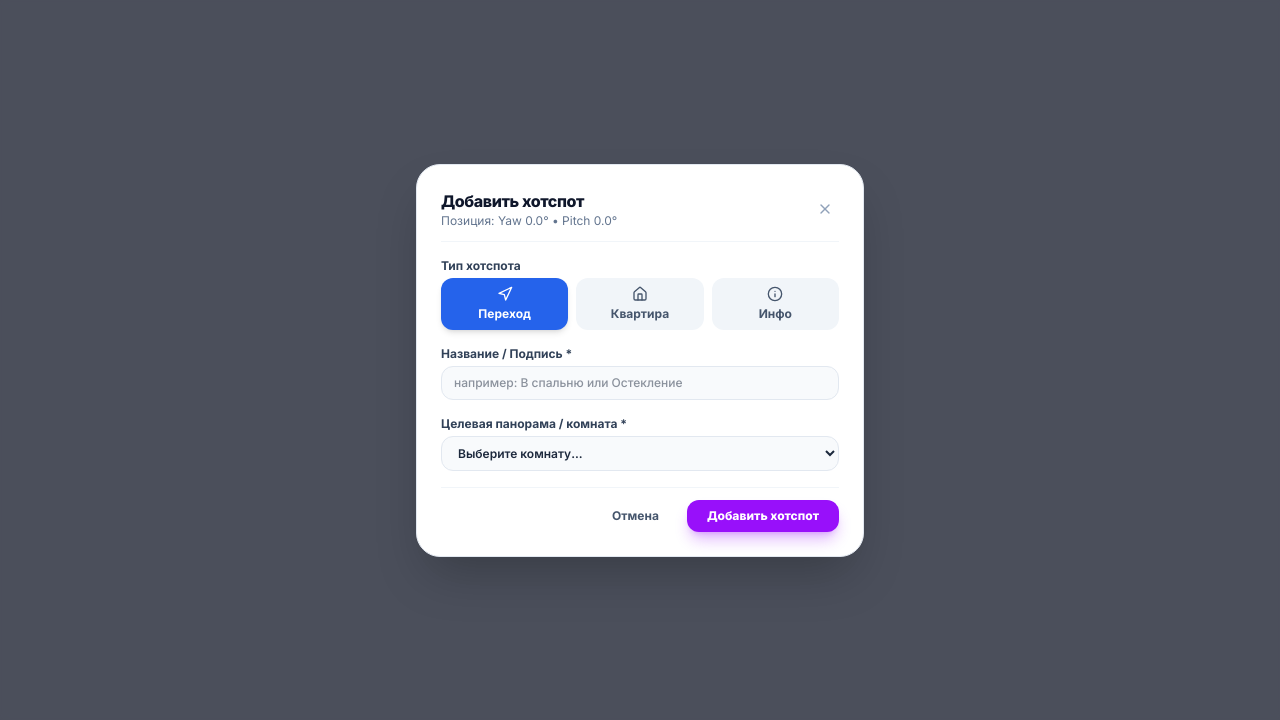
Test case: hotspot destination selection › saves the selected destination and preserves the form on API failure
Type "В гостиную" into the field named "Подпись хотспота" at (640, 382), box [441,366,839,400]
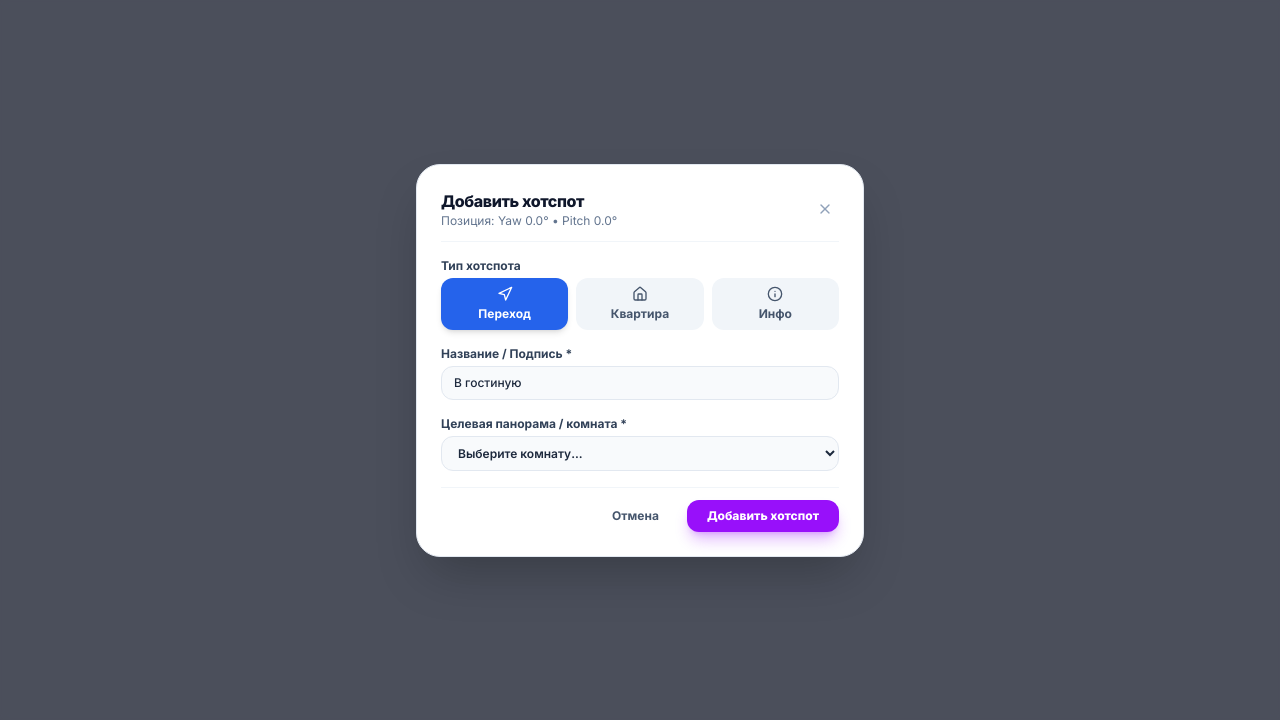
Select "Гостиная" in the dropdown named "Комната назначения" at (640, 453), box [441,436,839,470]
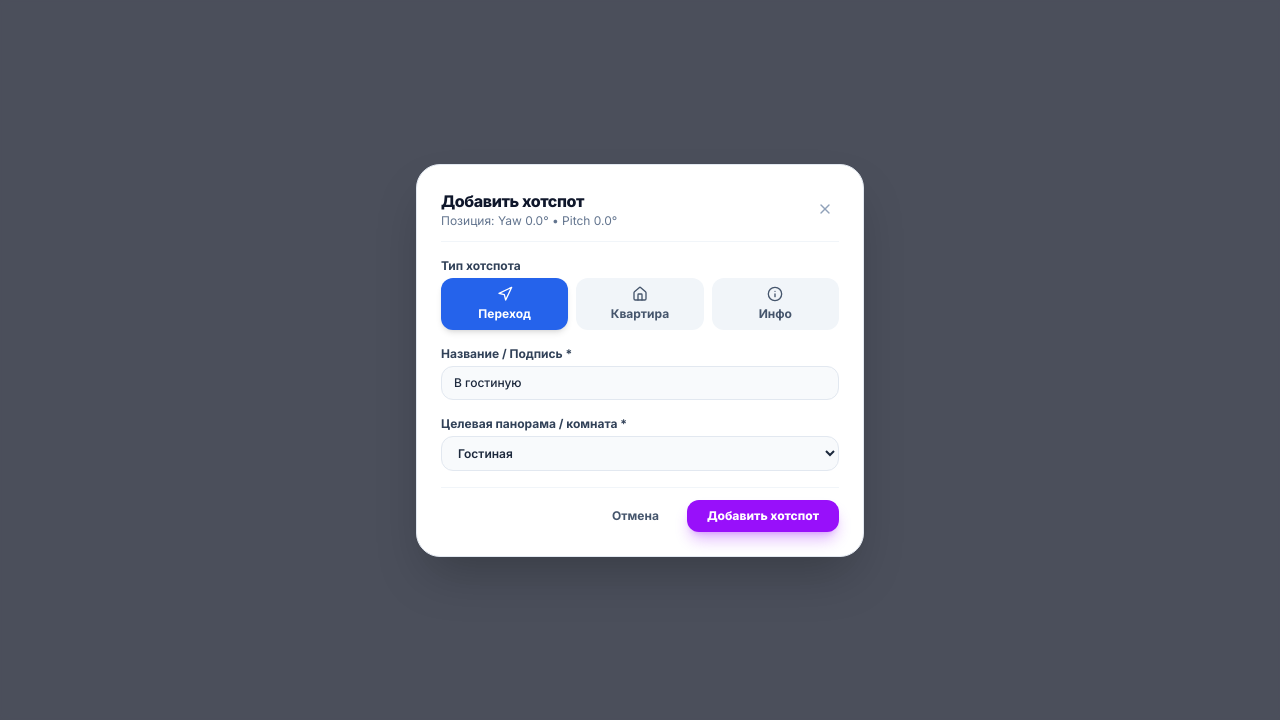
Click the button "Добавить хотспот" at (763, 516), box [687,500,839,532]
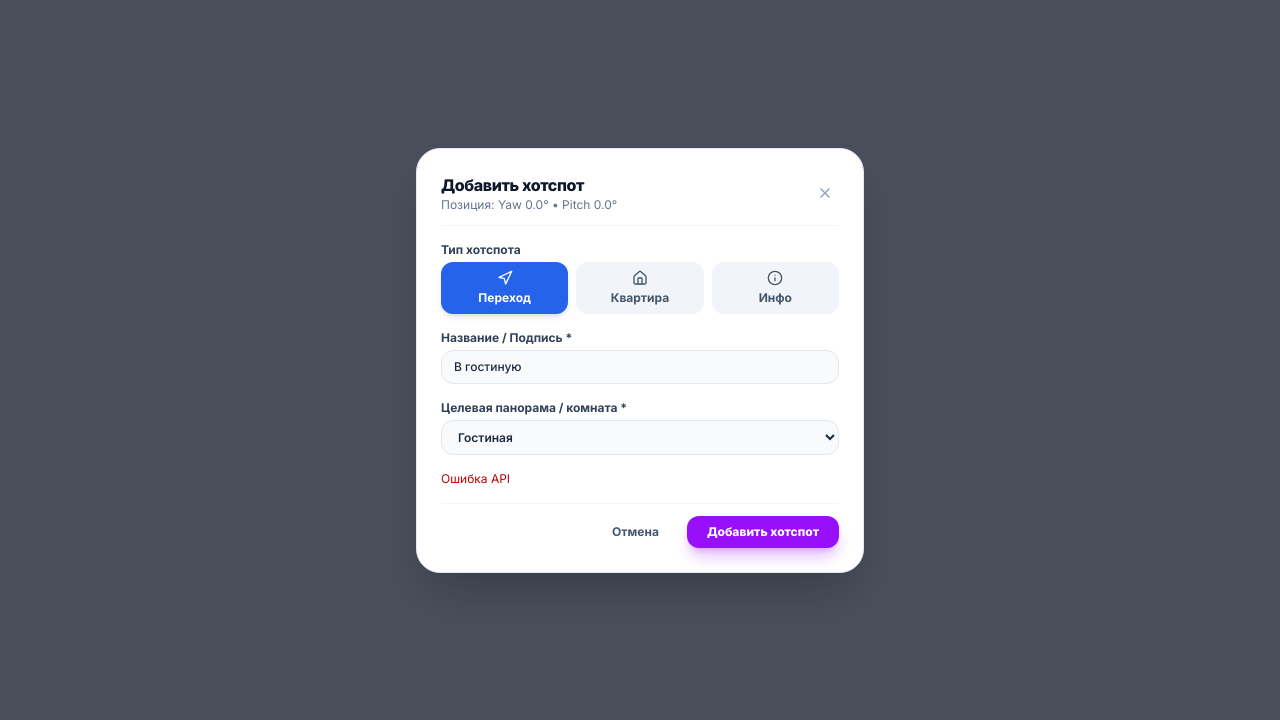
Now the message reads "Ошибка API", box [441,470,510,486]
